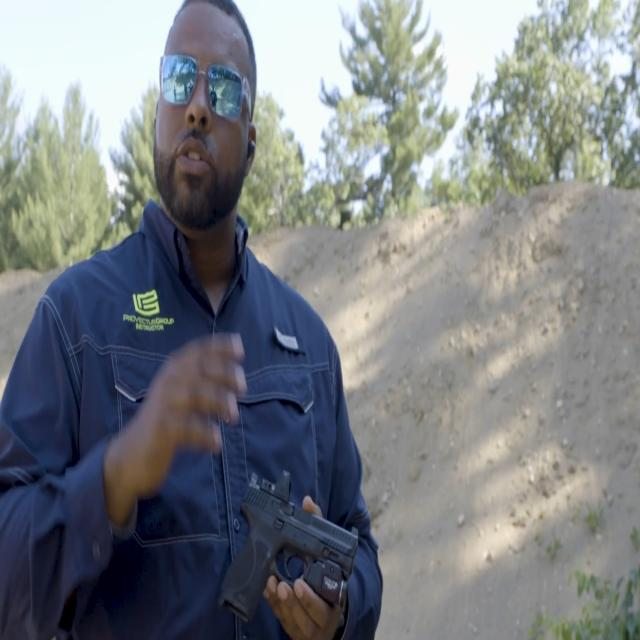Gun_Holder: (230, 442, 350, 631)
Person: (3, 0, 383, 640)
